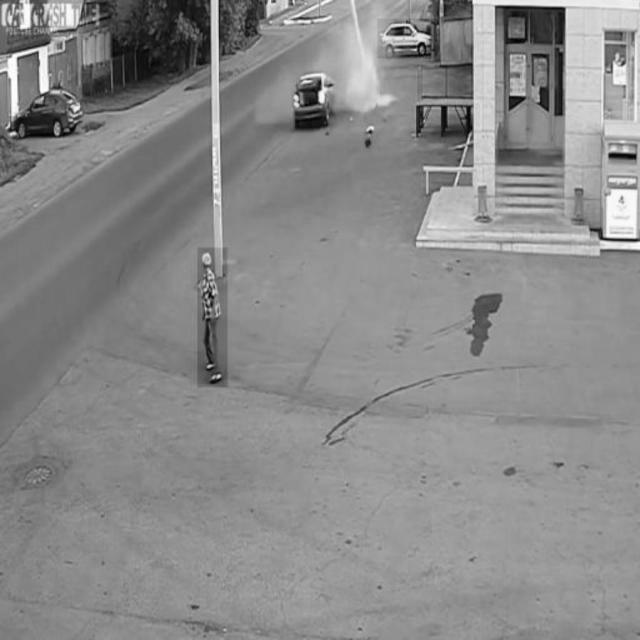person: (198, 247, 228, 387)
vehicle: (14, 81, 85, 142), (291, 73, 336, 129), (378, 19, 435, 59)
